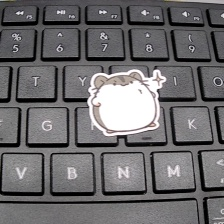mouse: (86, 68, 167, 138)
